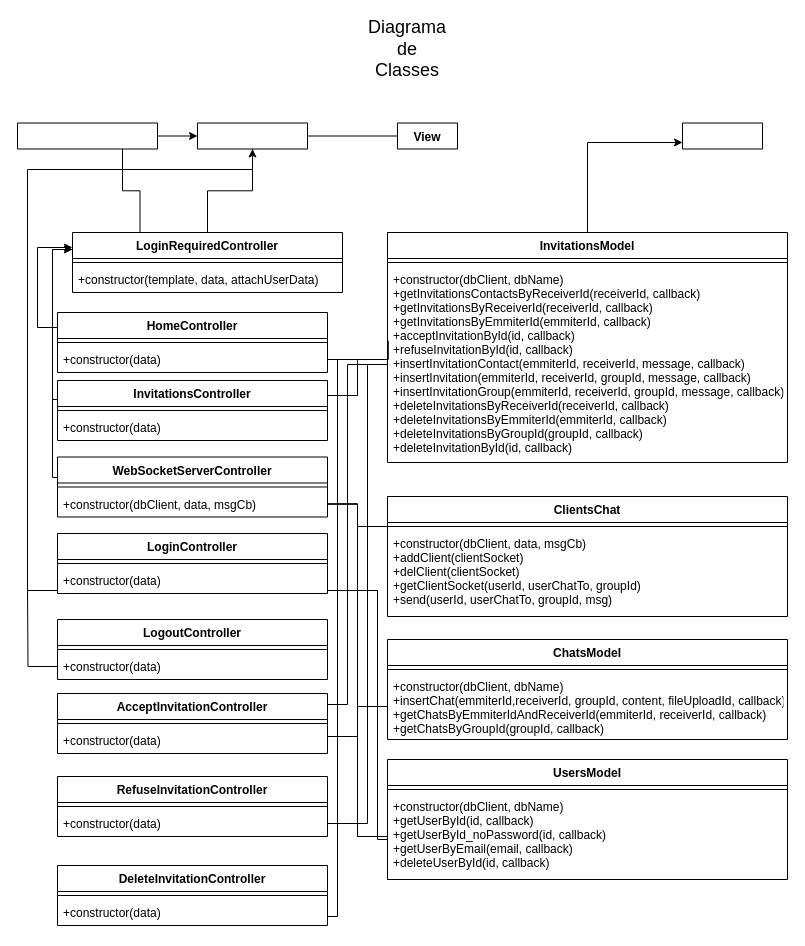
This 805x946 diagram has some shape labels left out. The centre of each missing label's shape, as x and y in pixels:
BaseController: point 252,135
DbModel: point 722,135
FeedbackController: point 87,135
